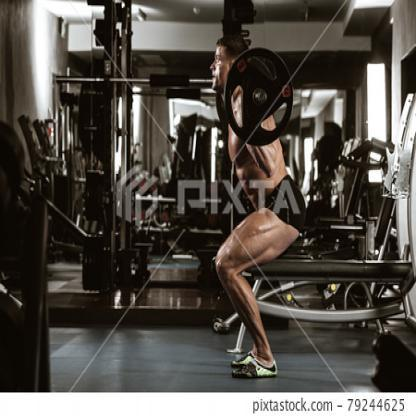Barbell: (255, 86, 270, 107)
